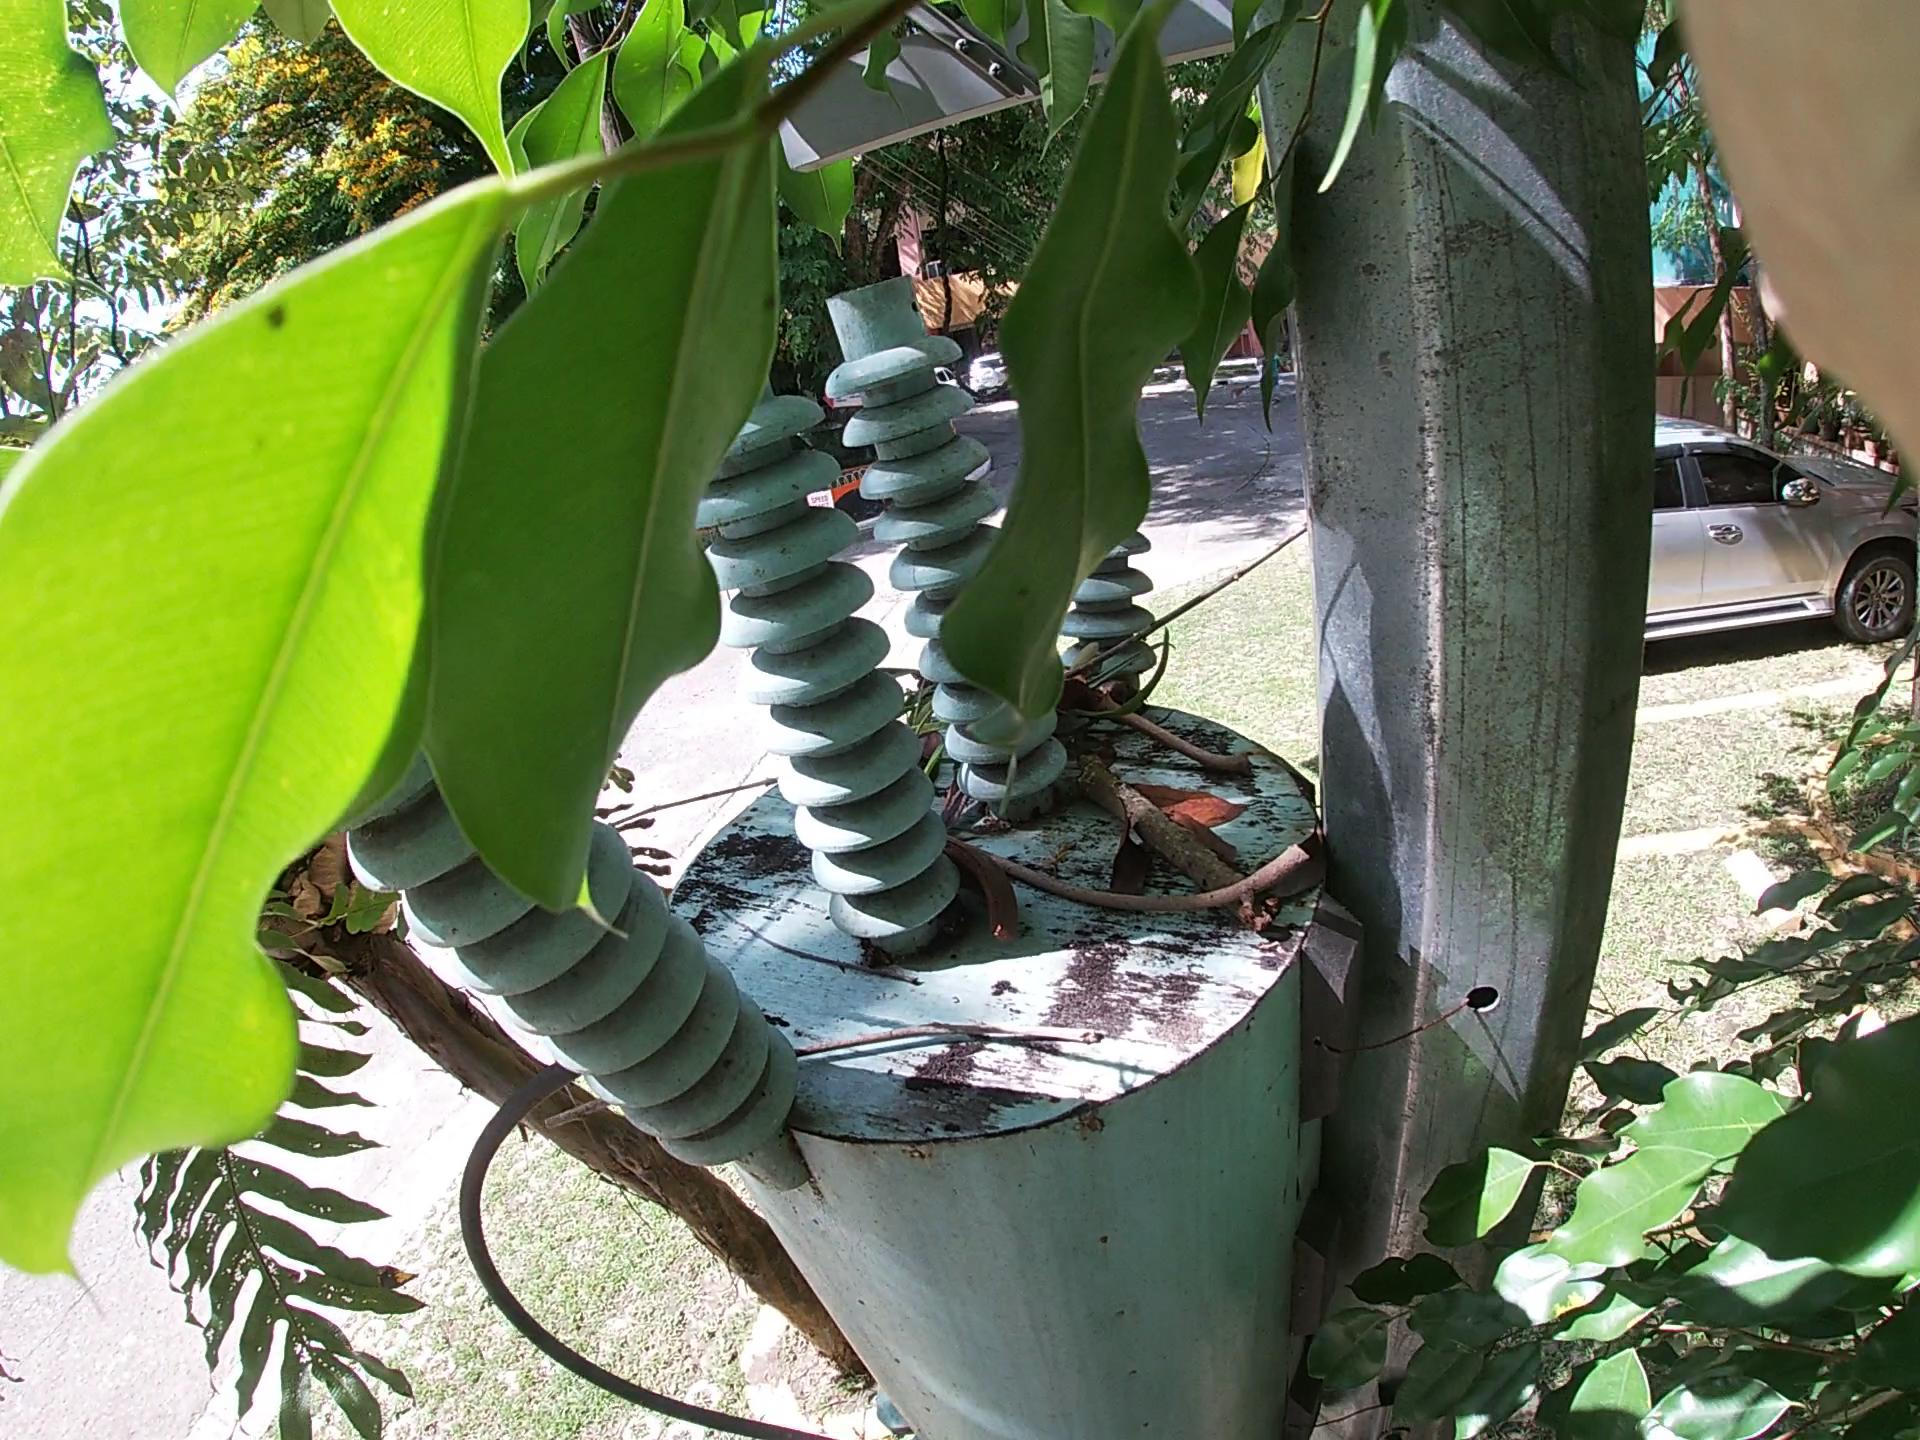branch with leaves: (925, 620, 1355, 1047)
leaf: (1061, 693, 1271, 957)
tree branch: (1054, 484, 1379, 755), (968, 820, 1373, 948), (723, 1015, 1132, 1095)
